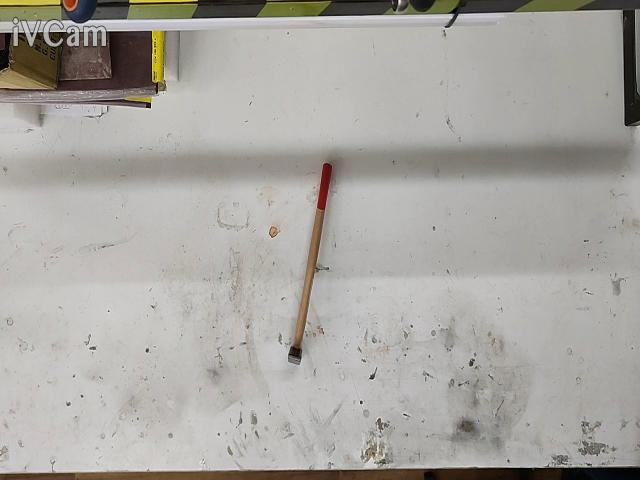Hammer: (288, 163, 332, 364)
